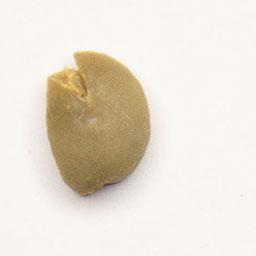premium: (42, 48, 154, 202)
